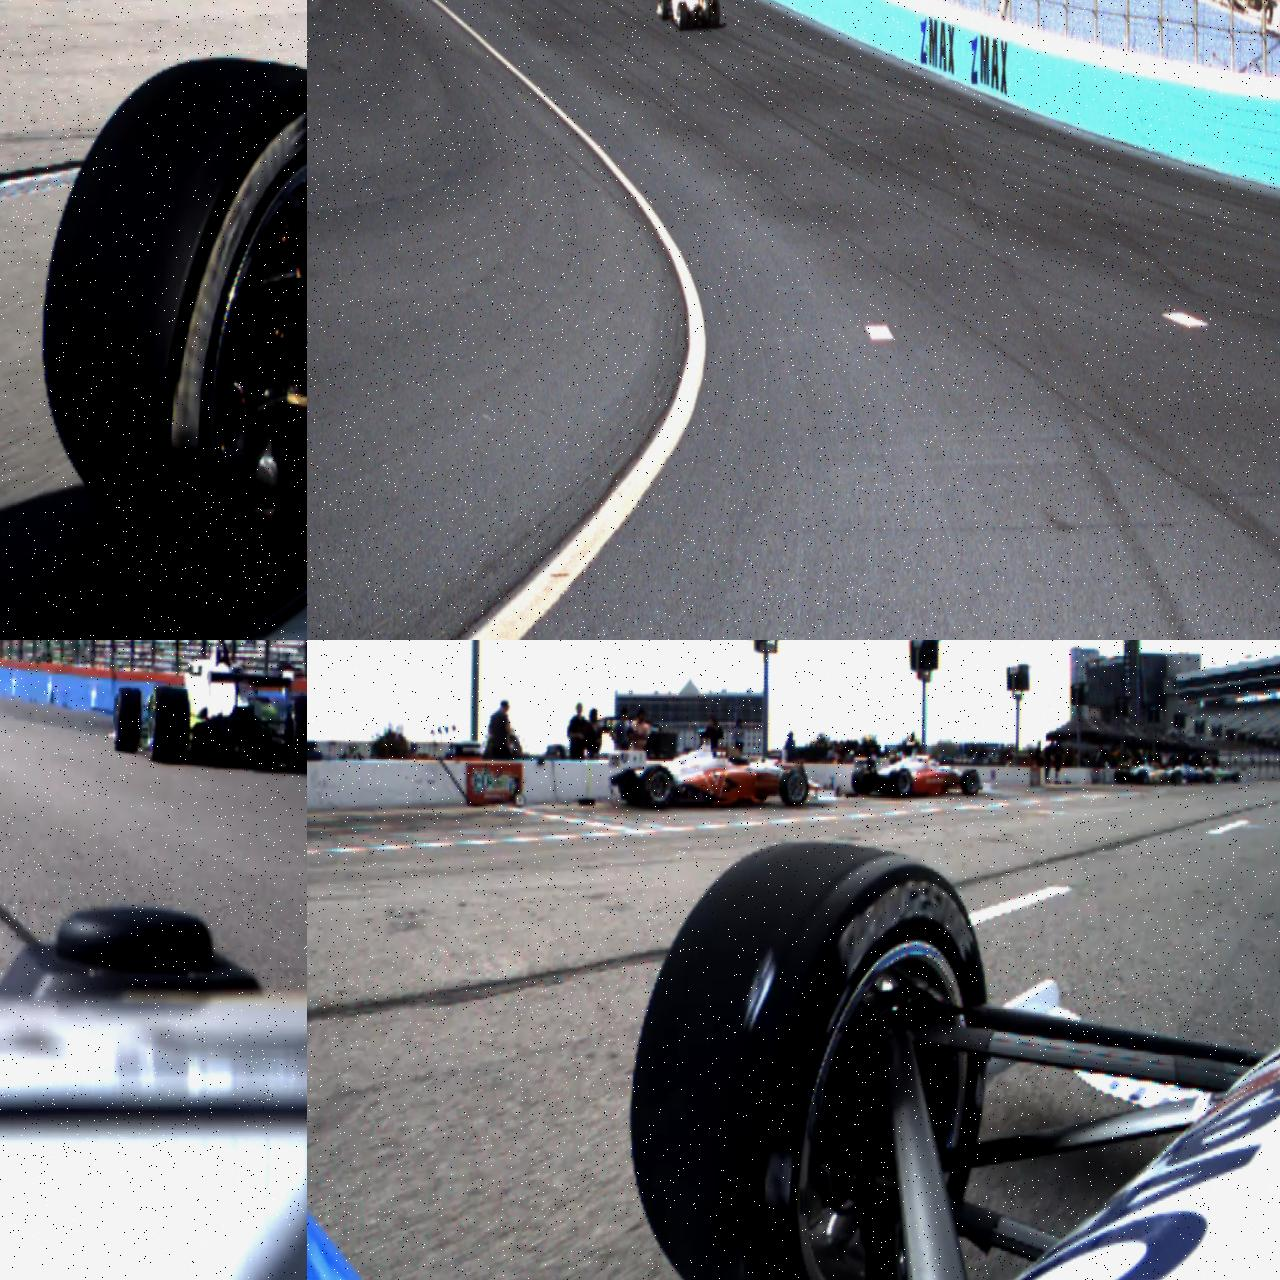AV: (107, 640, 307, 775), (608, 726, 838, 813), (852, 730, 992, 800), (656, 0, 721, 30)
Wheel: (626, 838, 992, 1280), (38, 51, 307, 559), (152, 686, 190, 765), (115, 687, 141, 753), (641, 764, 676, 810), (288, 695, 307, 774), (778, 769, 810, 808), (888, 768, 914, 798), (852, 766, 878, 794), (960, 769, 980, 796), (677, 2, 688, 30), (710, 0, 720, 27), (659, 0, 668, 20), (1171, 772, 1182, 785), (1138, 770, 1148, 784), (1206, 772, 1214, 784), (1232, 772, 1241, 782)
